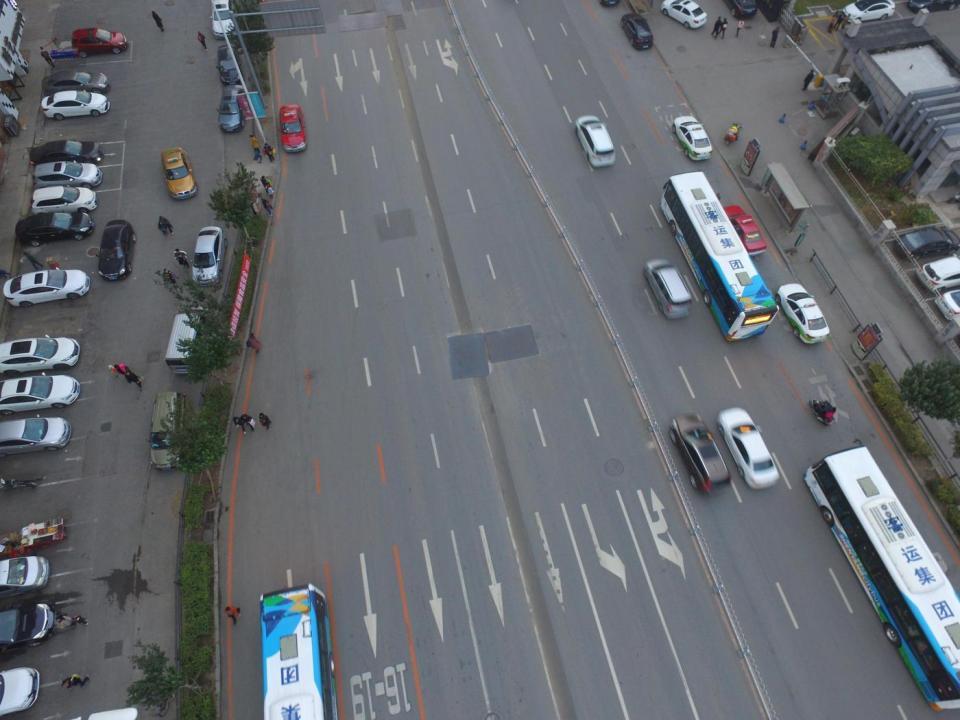bus: (806, 446, 959, 718), (660, 172, 779, 342), (260, 584, 330, 718)
car: (670, 411, 730, 494), (717, 407, 774, 491), (5, 268, 90, 310), (0, 371, 82, 413), (17, 206, 94, 250), (0, 334, 80, 376), (0, 598, 60, 652), (778, 282, 828, 344), (724, 205, 768, 260), (99, 220, 136, 281), (29, 140, 103, 170), (191, 226, 226, 289), (33, 162, 101, 192), (0, 667, 43, 714), (161, 144, 197, 200), (40, 72, 109, 100), (895, 229, 960, 258), (43, 92, 109, 120), (30, 186, 100, 212), (674, 116, 712, 163), (71, 26, 126, 56), (278, 103, 308, 153), (218, 87, 248, 135), (842, 0, 896, 26), (918, 256, 960, 288), (660, 0, 708, 28), (620, 13, 653, 52), (215, 42, 241, 88), (940, 290, 960, 322), (908, 0, 960, 12), (726, 0, 758, 19)
van: (148, 389, 190, 476), (164, 302, 212, 378), (646, 257, 695, 321), (0, 417, 71, 454), (574, 115, 616, 172), (0, 557, 52, 601), (210, 0, 241, 39)
